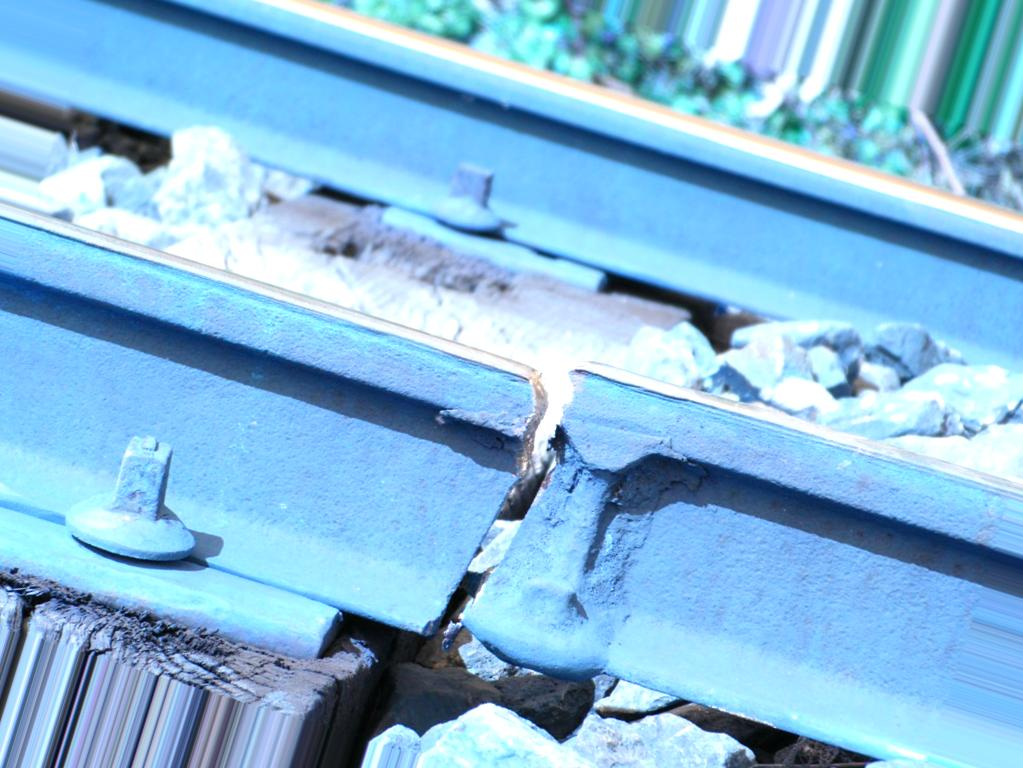tracks_fault: (373, 315, 709, 709)
